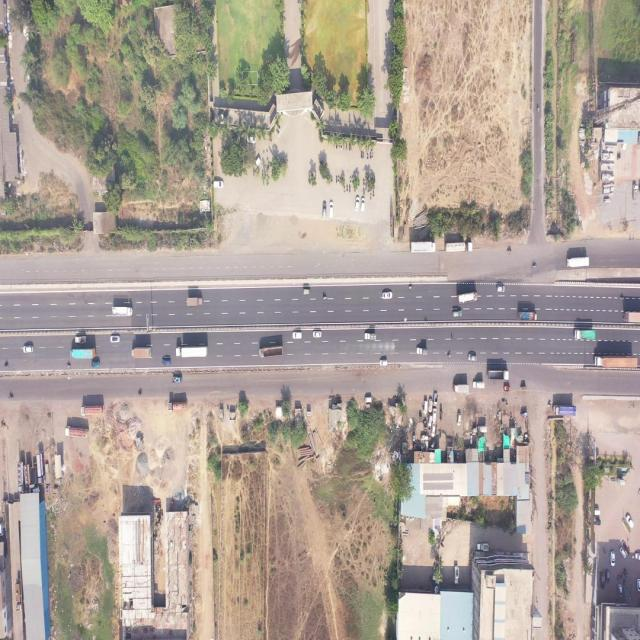3W: (303, 288, 310, 295)
Cars: (626, 514, 634, 528), (247, 135, 256, 144), (431, 422, 436, 438), (610, 551, 615, 567), (23, 345, 33, 353), (453, 310, 462, 318), (617, 584, 623, 596), (313, 330, 322, 338), (214, 181, 224, 188), (292, 332, 302, 339), (255, 157, 261, 168), (620, 547, 626, 558), (355, 196, 359, 212), (601, 572, 605, 588), (468, 354, 477, 361), (383, 292, 392, 299), (111, 336, 120, 343), (361, 198, 365, 212), (593, 518, 601, 525), (0, 522, 4, 536), (424, 400, 428, 413), (497, 285, 504, 292), (380, 359, 387, 366), (365, 396, 372, 403), (323, 202, 326, 218), (330, 202, 333, 218), (433, 406, 436, 422), (634, 552, 640, 560), (594, 508, 600, 516), (162, 360, 170, 366), (92, 362, 100, 367), (457, 413, 460, 426), (637, 578, 640, 591), (606, 570, 609, 582)
LCV: (416, 347, 428, 356), (454, 566, 460, 584), (477, 544, 489, 551), (364, 333, 376, 340), (74, 336, 86, 343), (172, 376, 182, 384), (633, 184, 638, 199), (433, 392, 438, 406)
M2W: (369, 189, 372, 200), (369, 149, 372, 160), (617, 152, 621, 160), (348, 184, 351, 193), (8, 395, 13, 400), (348, 143, 351, 151), (372, 148, 374, 160), (276, 128, 280, 134), (619, 296, 625, 300), (409, 284, 413, 290), (508, 249, 512, 254), (532, 264, 536, 269), (447, 353, 451, 358), (346, 184, 348, 193), (337, 174, 339, 183), (336, 174, 338, 183), (360, 150, 362, 159), (362, 150, 364, 159), (372, 190, 374, 198), (365, 182, 367, 190), (363, 178, 365, 186), (339, 175, 341, 183), (330, 175, 332, 183), (366, 152, 368, 160), (4, 363, 8, 367), (138, 391, 142, 395), (548, 402, 551, 407), (322, 296, 327, 299), (363, 188, 365, 195), (344, 186, 346, 193), (262, 169, 264, 176), (538, 106, 540, 113), (67, 364, 70, 368), (340, 144, 342, 149), (270, 138, 272, 143), (502, 399, 505, 402), (350, 176, 351, 183), (346, 143, 347, 150), (368, 187, 369, 193)
MAV: (594, 356, 638, 368), (410, 241, 436, 253), (176, 347, 207, 357), (66, 426, 88, 439), (444, 242, 472, 252), (37, 454, 45, 484), (568, 257, 590, 267), (15, 582, 22, 612), (82, 406, 105, 415), (168, 402, 188, 412), (623, 311, 640, 322), (17, 462, 23, 492)
Truck: (70, 349, 96, 360), (259, 346, 283, 357), (458, 291, 478, 303), (488, 369, 509, 380), (574, 329, 596, 339), (132, 348, 152, 358), (112, 306, 132, 316), (518, 311, 536, 321), (453, 383, 469, 392), (187, 298, 203, 306)
